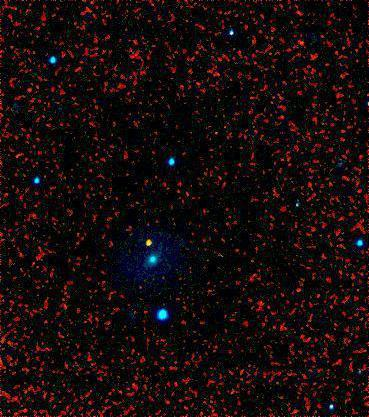star: (132, 227, 162, 257)
